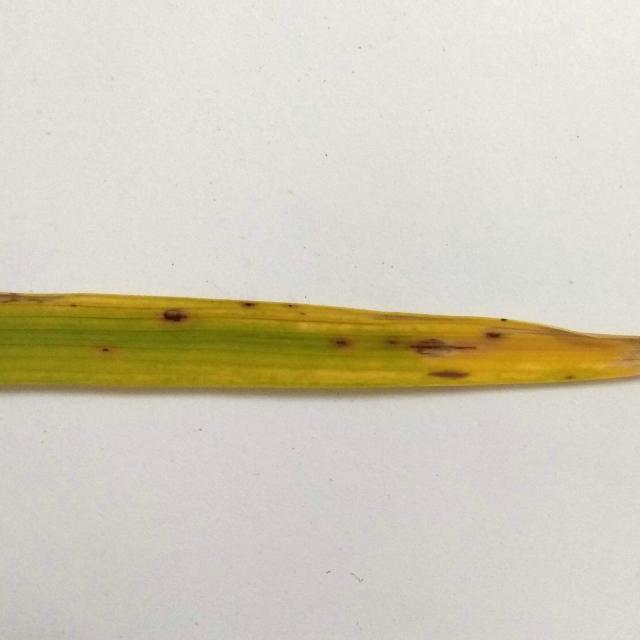Brown spot: (1, 277, 640, 413)
